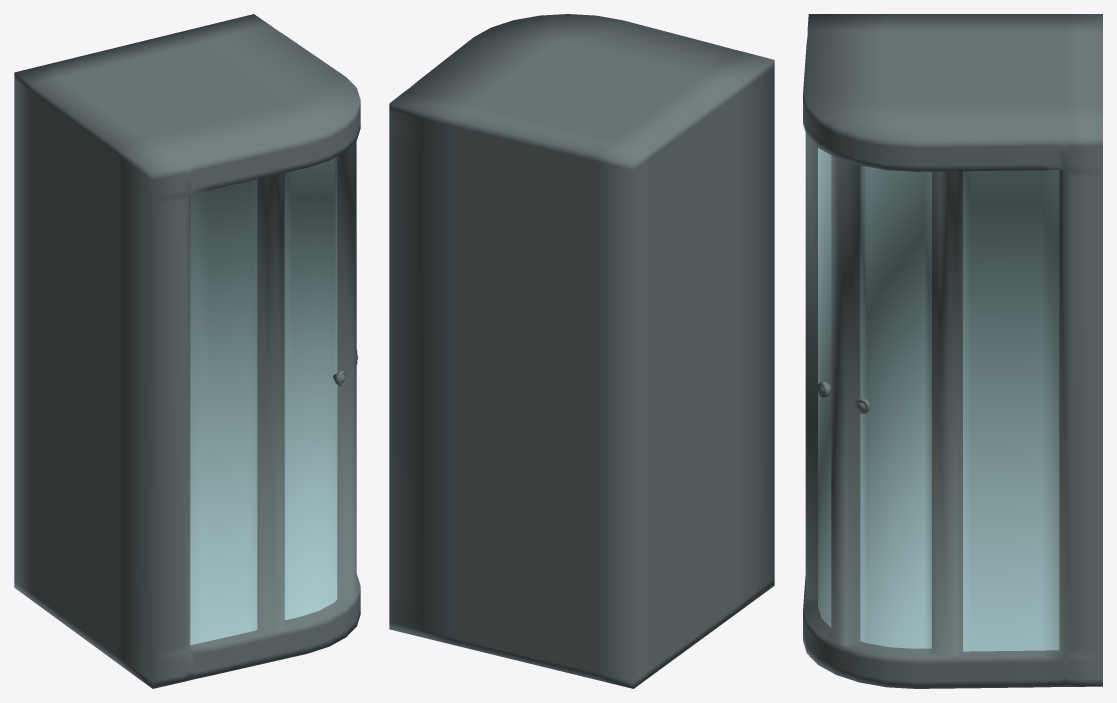
File: Shower.fbx
The picture shows the model from 3 angles, left to right: view 1: azimuth 30°, elevation 25°; view 2: azimuth 150°, elevation 25°; view 3: azimuth 270°, elevation 25°; orthographic projection. The views are drawn at different scales.
Parts seen in each view (by area): view 1: Shower; view 2: Shower; view 3: Shower.
Boxes of the visible parts, x1,y1,x2,y2 form: Shower: [14, 14, 360, 688]; Shower: [389, 14, 774, 688]; Shower: [803, 14, 1102, 688].
Size of the model in its own units: 109 by 220 by 109.
